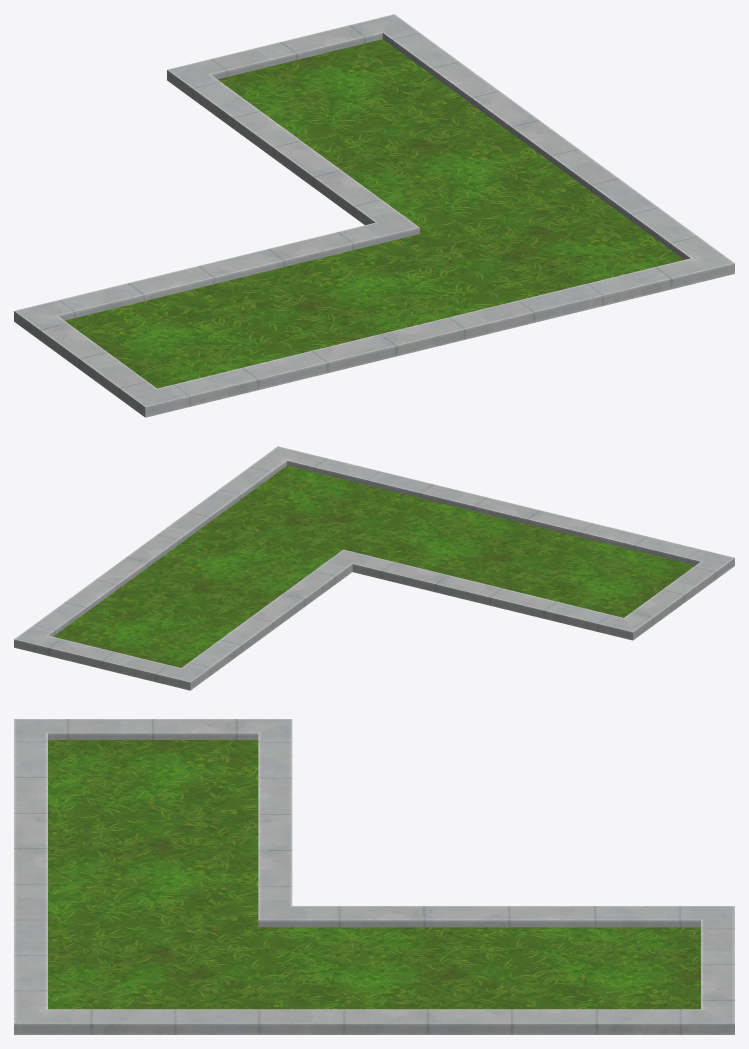
Rendered from flowerBed_low_05.fbx.
3 views of the same model, one above another, from view 1: azimuth 30°, elevation 25°; view 2: azimuth 150°, elevation 25°; view 3: azimuth 270°, elevation 25° (orthographic). The views are drawn at different scales.
Parts seen in each view (by area): view 1: flowerBed_low_05; view 2: flowerBed_low_05; view 3: flowerBed_low_05.
Part boxes in pixels (<box>): flowerBed_low_05: <box>14,14,734,417</box>; flowerBed_low_05: <box>14,446,734,690</box>; flowerBed_low_05: <box>14,719,734,1034</box>.
Size of the model in its own units: 428 by 7.39 by 428.
